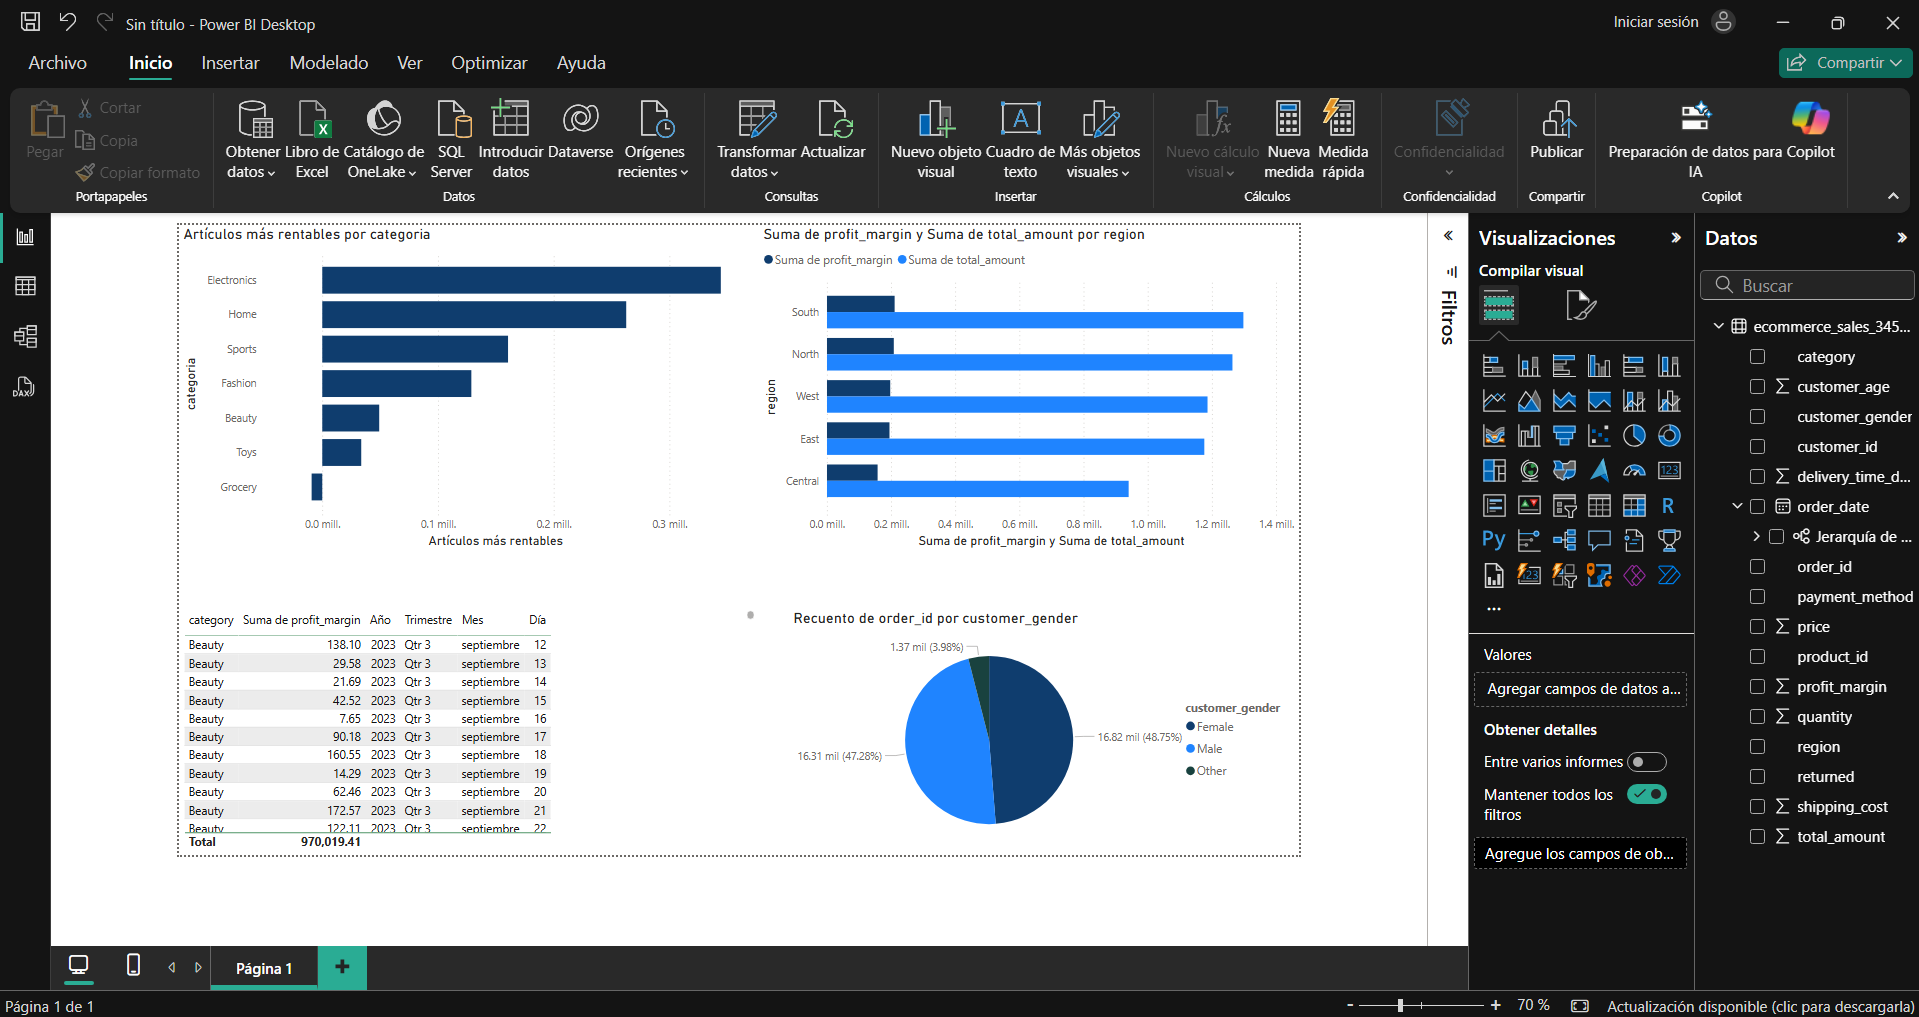

This screenshot's page, from the dashboard's own definition file:
{"tool":"powerbi","page":{"name":"Página 1","canvas":[1280,720],"ordinal":0},"visuals":[{"type":"clusteredBarChart","fields":{"Category":["ecommerce_sales_34500.category"],"Y":["Sum(ecommerce_sales_34500.profit_margin)"]},"box":[0,0,652.9,374.3],"z":0},{"type":"tableEx","fields":{"Values":["ecommerce_sales_34500.category","Sum(ecommerce_sales_34500.profit_margin)","ecommerce_sales_34500.order_date.Variación.Jerarquía de fechas.Año","ecommerce_sales_34500.order_date.Variación.Jerarquía de fechas.Trimestre","ecommerce_sales_34500.order_date.Variación.Jerarquía de fechas.Mes","ecommerce_sales_34500.order_date.Variación.Jerarquía de fechas.Día"]},"box":[0,435.7,662.9,284.3],"z":1},{"type":"clusteredBarChart","fields":{"Category":["ecommerce_sales_34500.region"],"Y":["Sum(ecommerce_sales_34500.profit_margin)","Sum(ecommerce_sales_34500.total_amount)"]},"box":[662.9,0,617.1,374.3],"z":2},{"type":"pieChart","fields":{"Category":["ecommerce_sales_34500.customer_gender"],"Y":["CountNonNull(ecommerce_sales_34500.order_id)"]},"box":[697.1,438.6,582.9,281.4],"z":3}]}

Visuals, with their boxes on the page's 1280x720 design canvas (x1, y1, x2, y2). These are canvas units, not pixel positions in the 1919x1017 screenshot, which may show the page scaled, cropped or inside an application window:
clusteredBarChart - ecommerce_sales_34500.category x Sum(ecommerce_sales_34500.profit_margin): crop(0, 0, 653, 374)
tableEx - ecommerce_sales_34500.category x Sum(ecommerce_sales_34500.profit_margin): crop(0, 436, 663, 720)
clusteredBarChart - ecommerce_sales_34500.region x Sum(ecommerce_sales_34500.profit_margin): crop(663, 0, 1280, 374)
pieChart - ecommerce_sales_34500.customer_gender x CountNonNull(ecommerce_sales_34500.order_id): crop(697, 439, 1280, 720)
